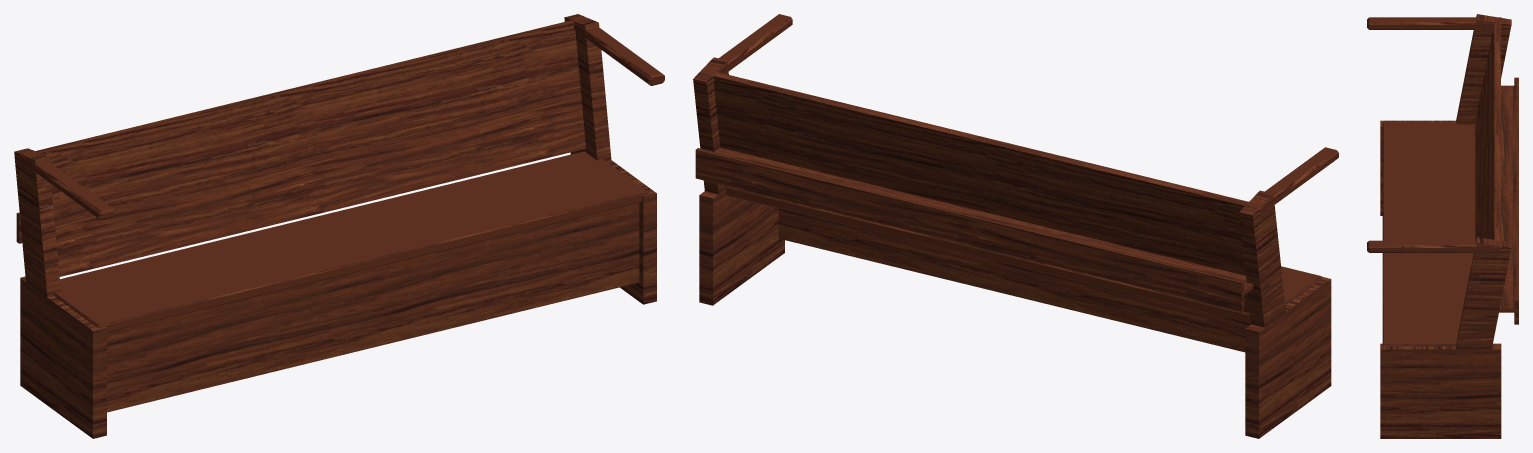
File: court_bench.glb
3 views of the same model, side by side, from view 1: azimuth 30°, elevation 25°; view 2: azimuth 150°, elevation 25°; view 3: azimuth 270°, elevation 25° (orthographic). The views are drawn at different scales.
Parts seen in each view (by area): view 1: court_bench; view 2: court_bench; view 3: court_bench.
Part boxes in pixels (box(x1,y1,x2,y2)): court_bench: box(14, 14, 664, 438); court_bench: box(693, 14, 1338, 438); court_bench: box(1367, 14, 1518, 438).
Size of the model in its own units: 2.47 by 0.9847 by 0.69.
Materials: 1 (1 with a texture image).
